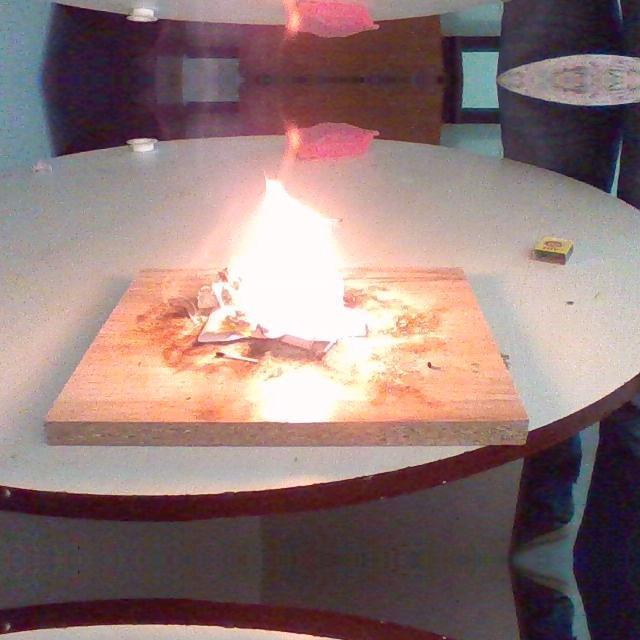smoke: (226, 174, 348, 332)
